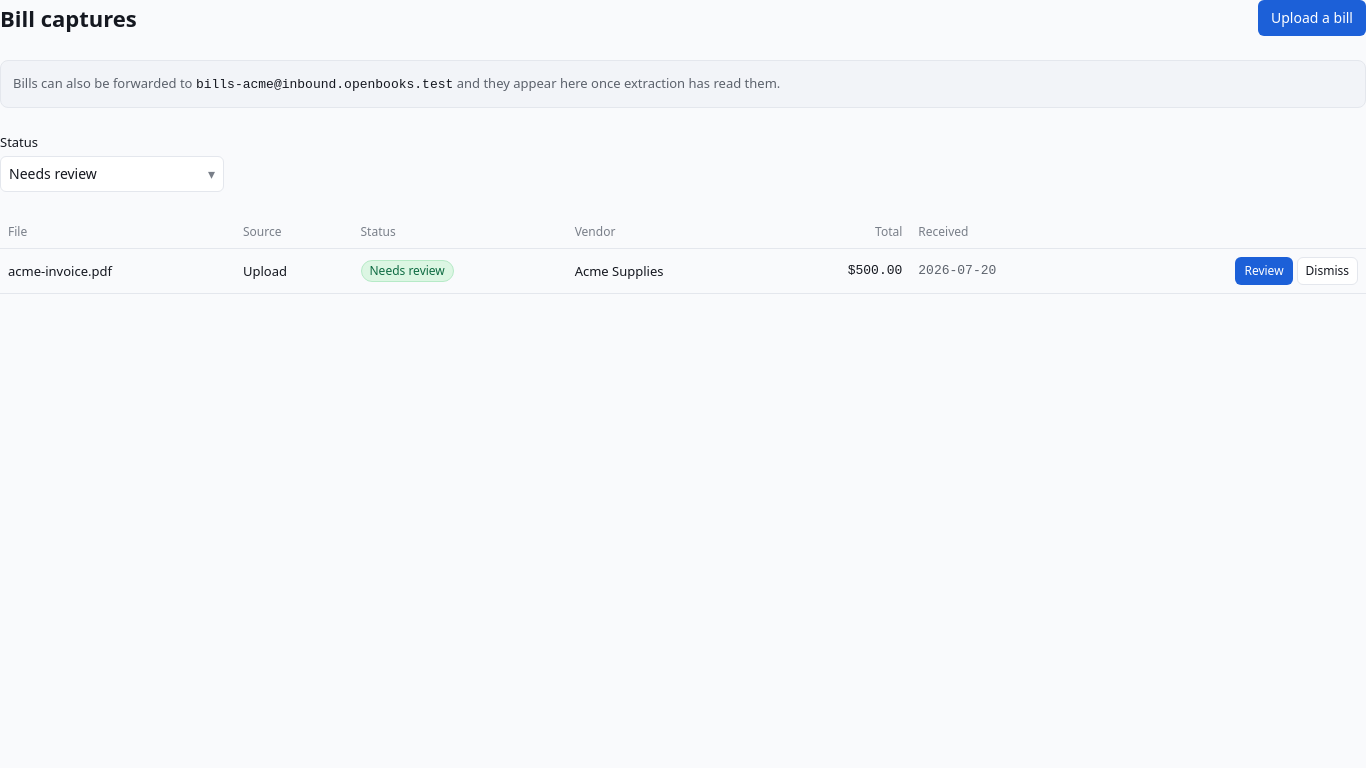
Scenario: BillCapturesScreen › confirms a reviewed capture with the vendor, account and lines chosen on screen
Click the button "Review". click: (1264, 271)
box: [1235,257,1293,285]
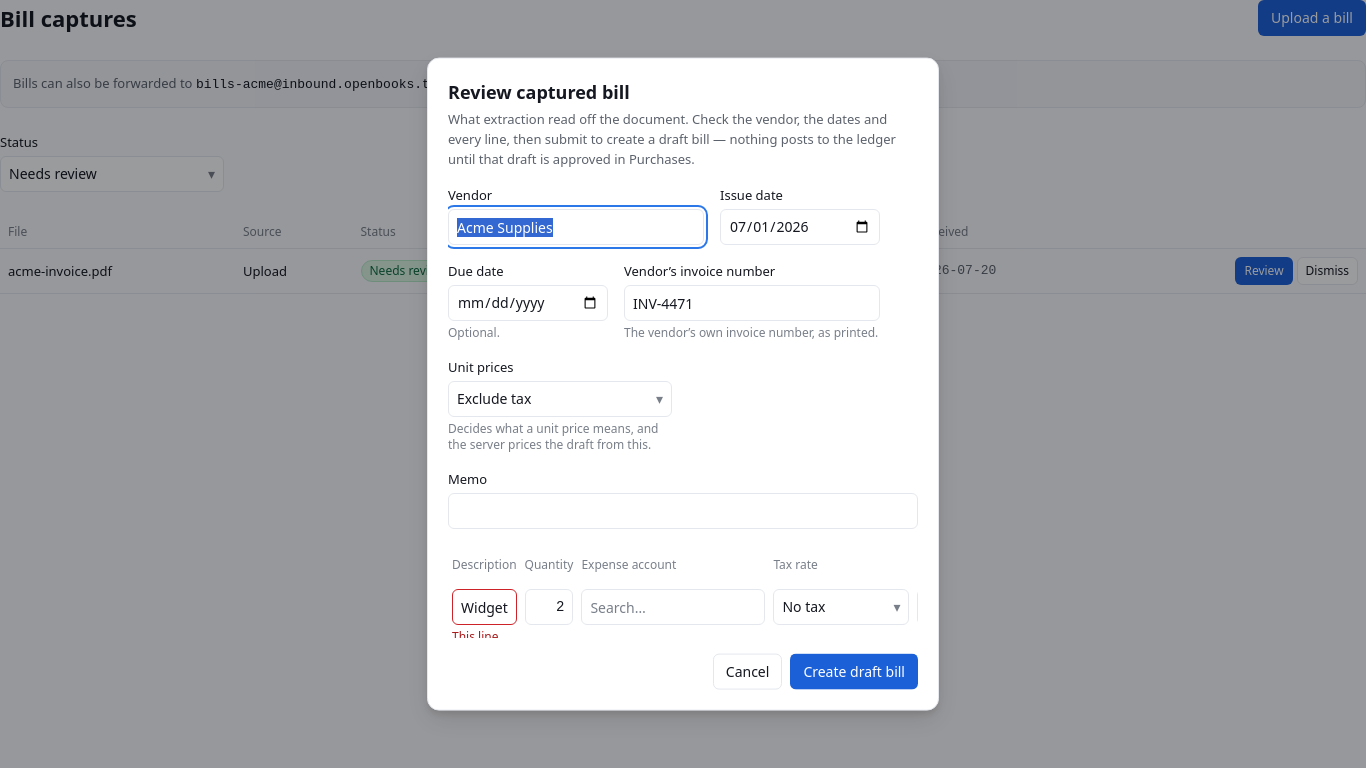
expect the dropdown labelled "Vendor" holds "Acme Supplies": met, box [448,209,704,245]
expect the date field labelled "Issue date" holds "2026-07-01": met, box [720,209,880,245]
expect the field labelled "Vendor’s invoice number" holds "INV-4471": met, box [624,285,880,321]
Click the dropdown named "Expense account, line 1". click: (673, 607)
box: [581,589,765,625]
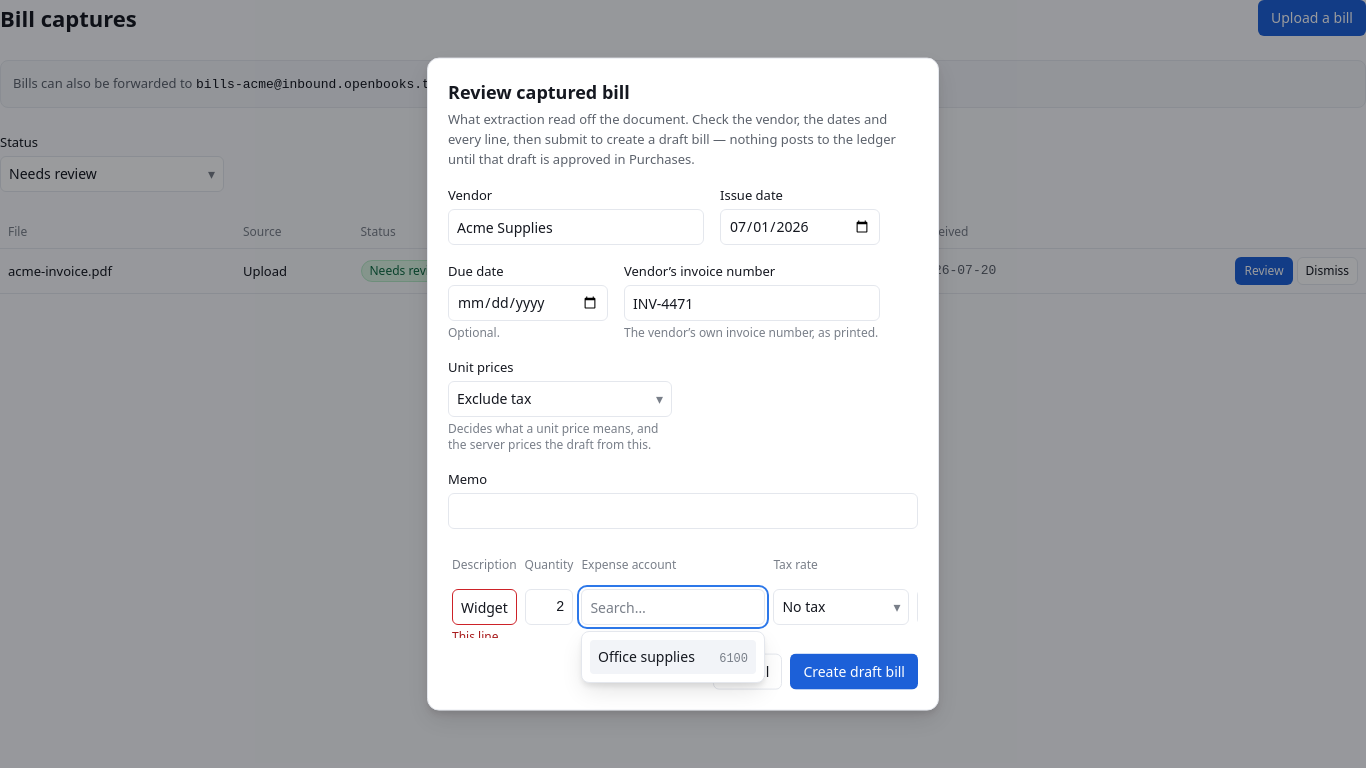
Click the option "Office supplies 6100". click: (673, 657)
box: [590,640,756,674]
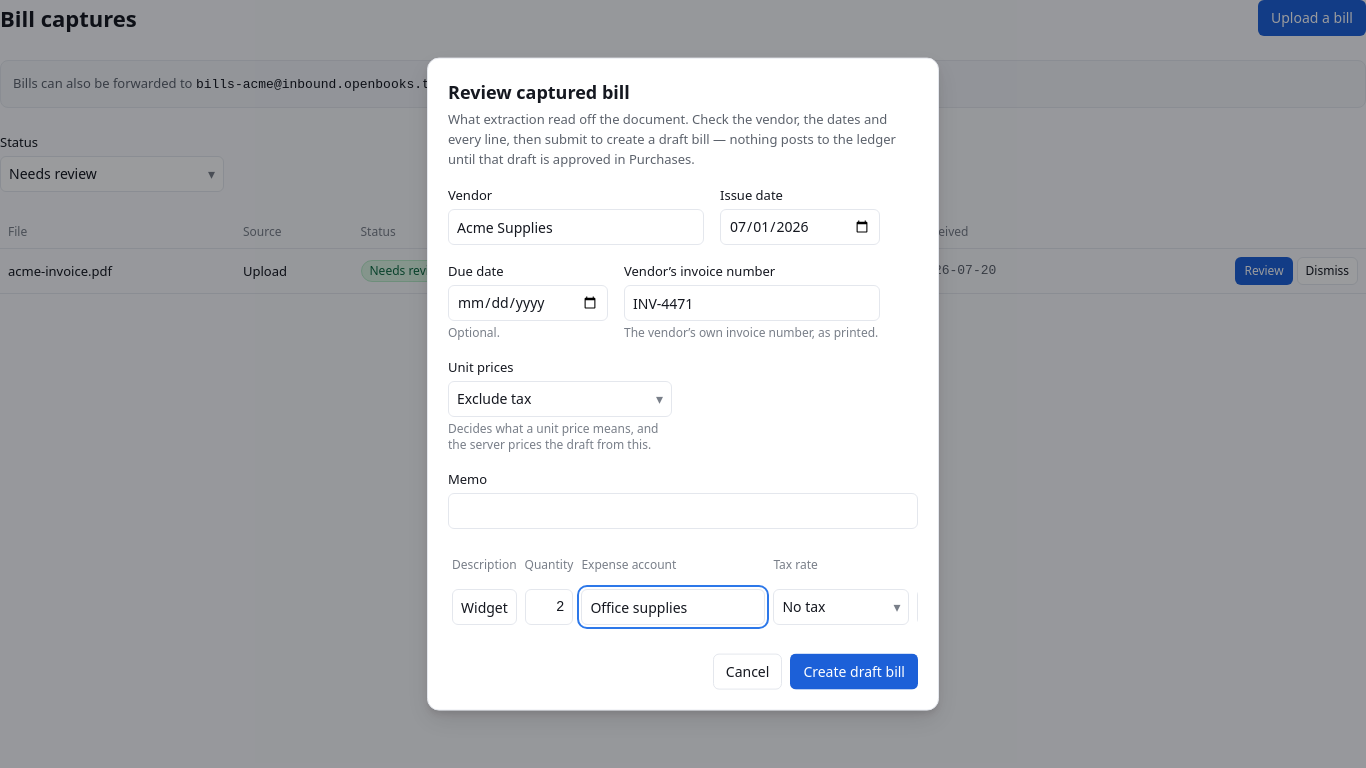
Click the button "Create draft bill". click: (854, 671)
box: [790,653,918,689]
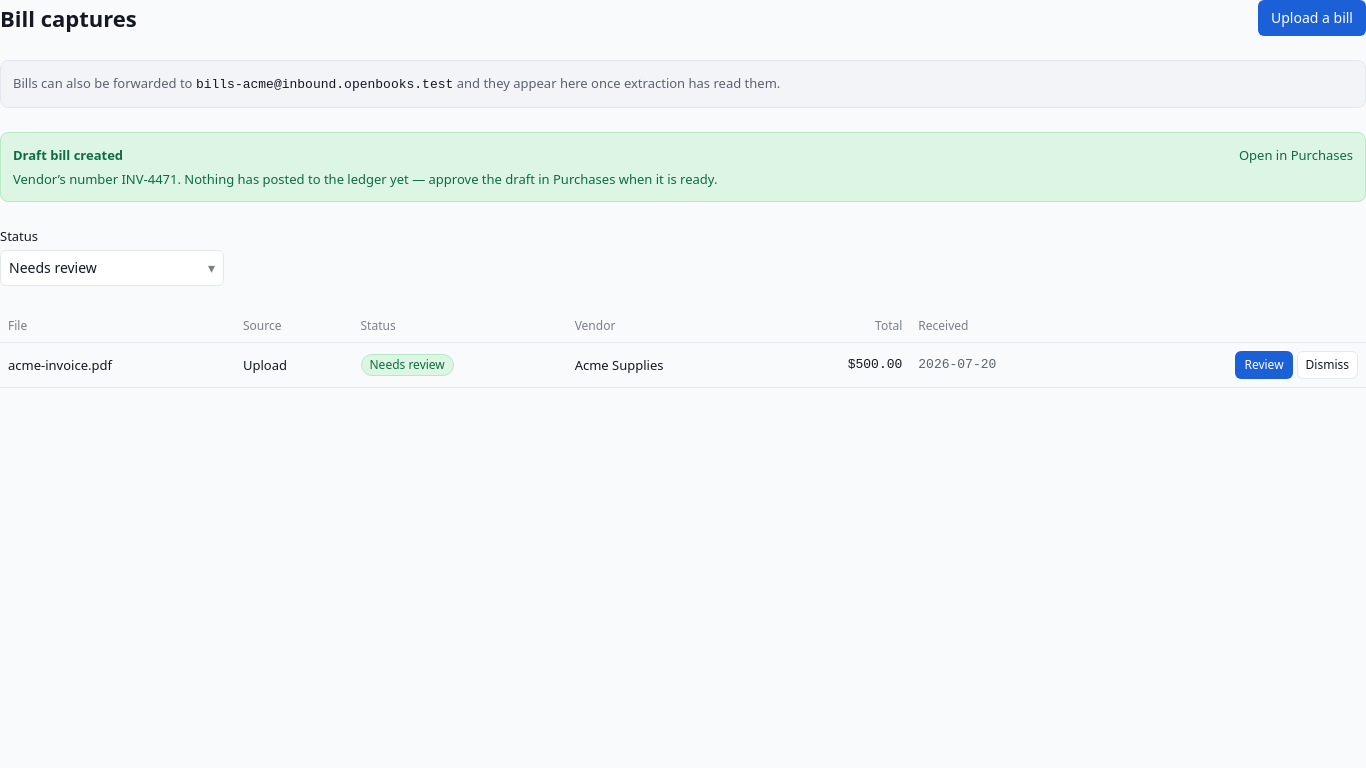
expect the text "Draft bill created" is shown: met, box [13,146,123,164]
